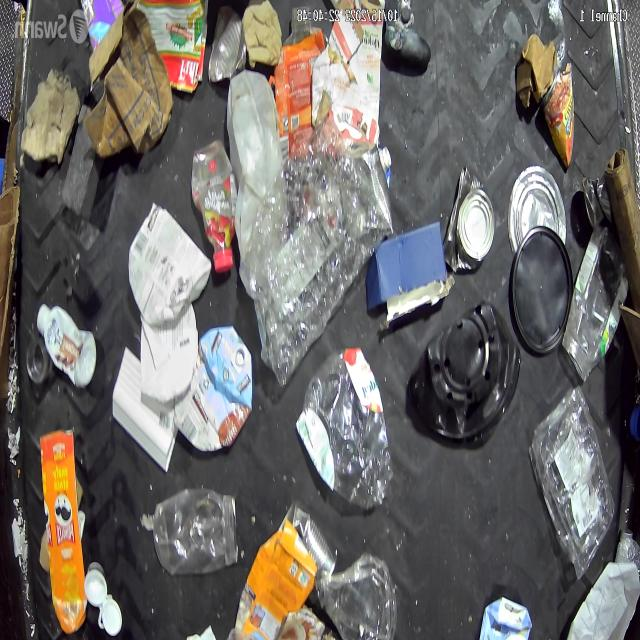can: (278, 501, 337, 604), (441, 163, 495, 274), (506, 162, 567, 250), (344, 140, 393, 240), (208, 8, 248, 87)
milk_jug: (227, 69, 282, 238)
non_white_jug: (234, 518, 317, 640), (173, 324, 252, 452), (479, 594, 533, 640)
plastic_bottle: (529, 388, 616, 578), (298, 347, 394, 508), (562, 230, 628, 380), (152, 484, 239, 577), (191, 140, 236, 270)
